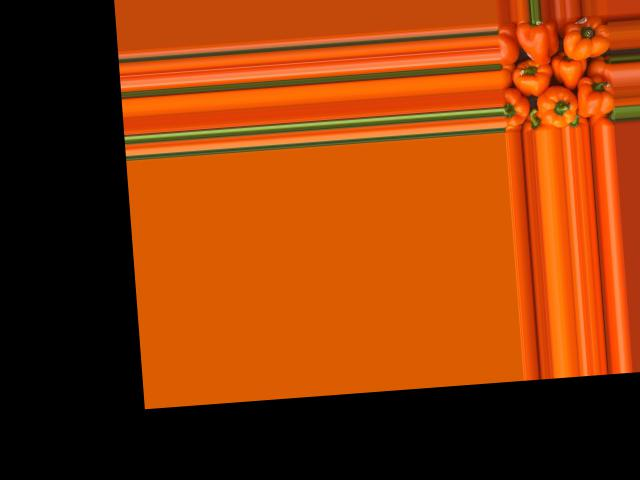bell_pepper: (498, 20, 519, 65)
